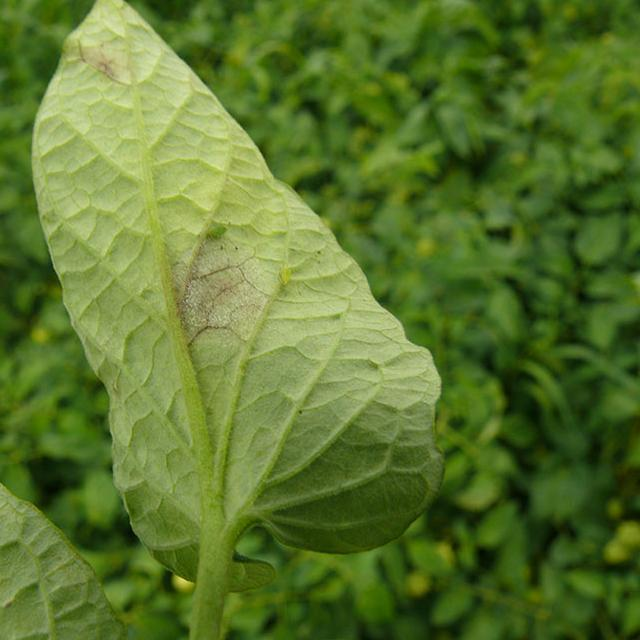Tomato leaf late blight: (20, 0, 471, 602)
